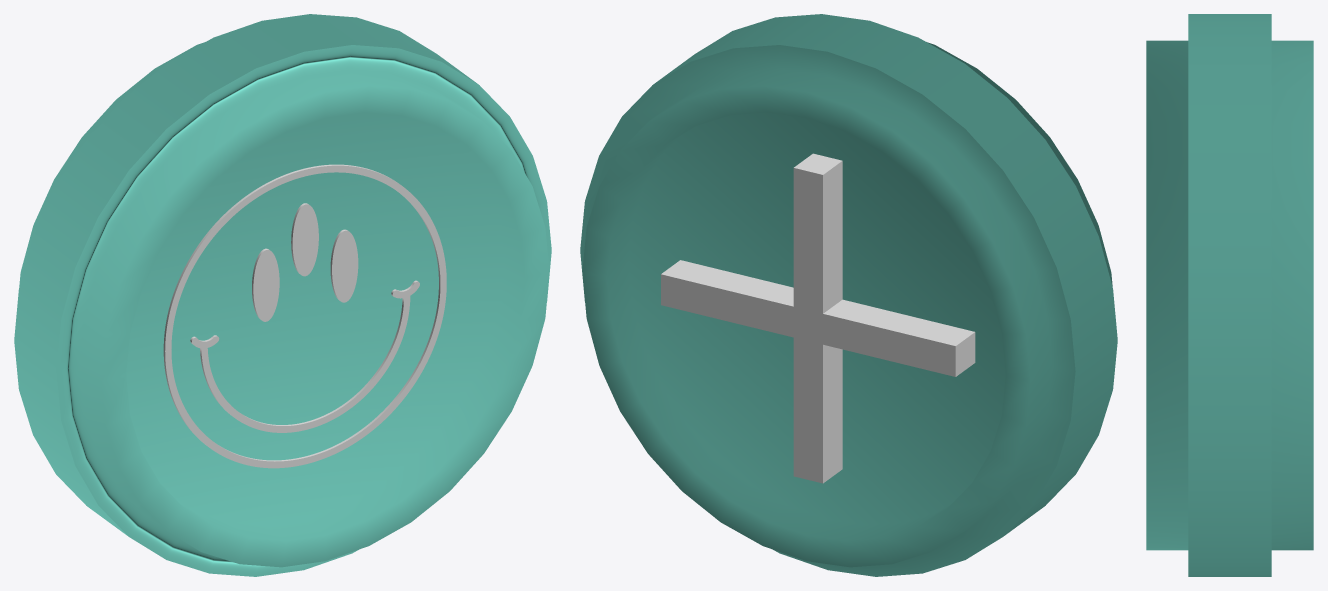
Rendered from pill v2.glb.
The picture shows the model from 3 angles, left to right: view 1: azimuth 30°, elevation 25°; view 2: azimuth 150°, elevation 25°; view 3: azimuth 270°, elevation 25°; orthographic projection.
Parts seen in each view (by area): view 1: Cylinder, Curve; view 2: Cylinder, backside; view 3: Cylinder.
Part boxes in pixels (bbox=[...]): Cylinder: bbox=[14, 14, 551, 576]; Curve: bbox=[163, 164, 446, 468]; Cylinder: bbox=[580, 14, 1117, 576]; backside: bbox=[661, 153, 975, 483]; Cylinder: bbox=[1146, 14, 1313, 576].
Size of the model in its own units: 2 by 2 by 0.5944.
